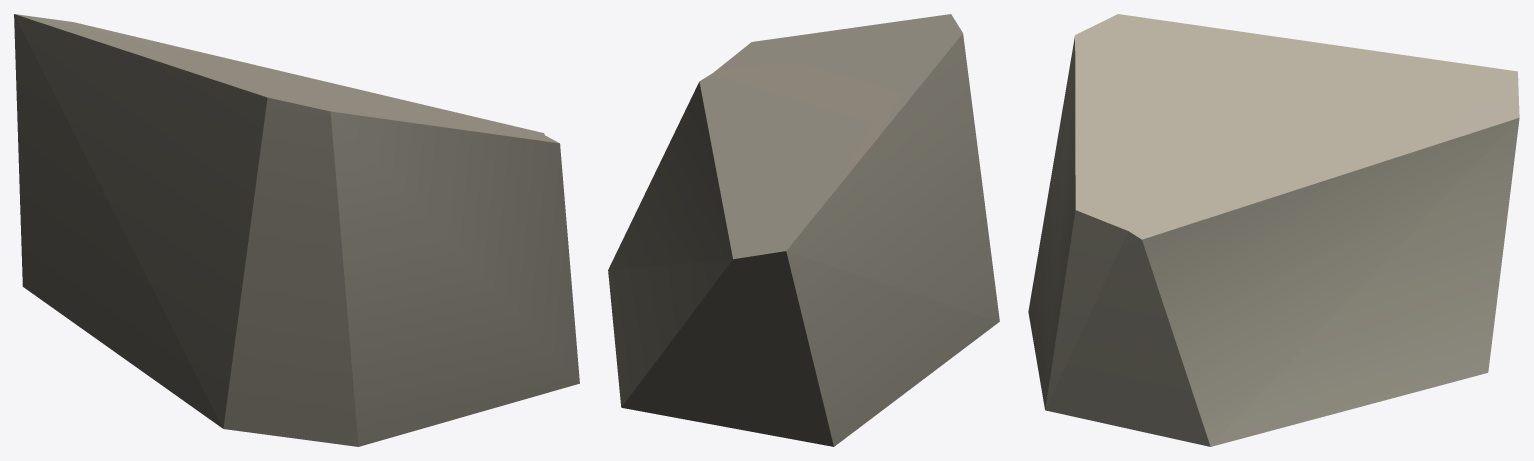
File: Rock_Small_1F.fbx
3 views of the same model, side by side, from view 1: azimuth 30°, elevation 25°; view 2: azimuth 150°, elevation 25°; view 3: azimuth 270°, elevation 25° (orthographic). The views are drawn at different scales.
Parts seen in each view (by area): view 1: Rock_Small_1F; view 2: Rock_Small_1F; view 3: Rock_Small_1F.
Part boxes in pixels (<box>): Rock_Small_1F: <box>14,14,579,446</box>; Rock_Small_1F: <box>608,14,999,446</box>; Rock_Small_1F: <box>1028,14,1519,446</box>.
Size of the model in its own units: 0.297 by 0.2256 by 0.3575.
